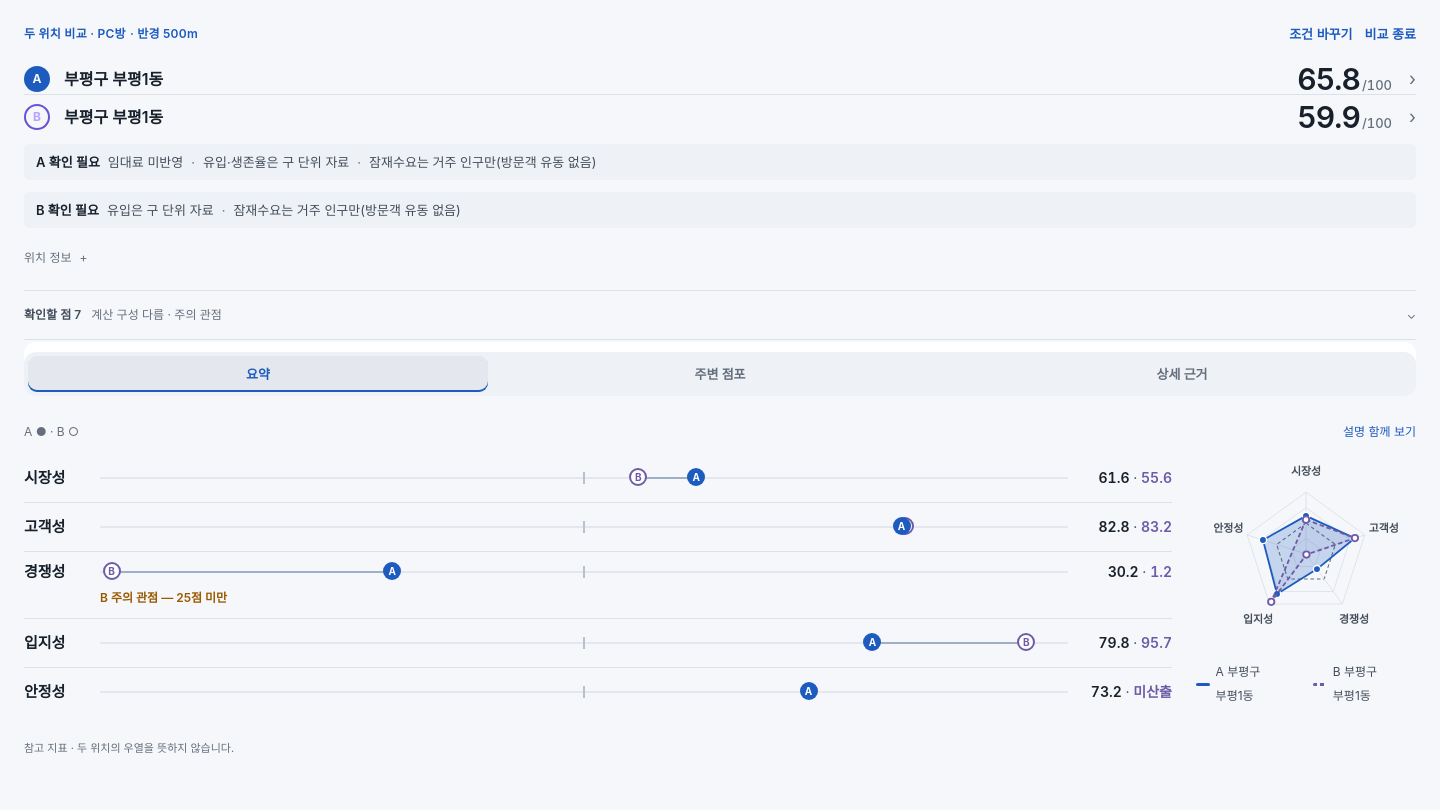
Test: 기본 결과는 간단히, 근거는 요청할 때 › 비교도 설명을 접고 계산 구성 차이는 접힌 주의 제목에 알린다
expect the heading "확인할 점 7 계산 구성 다름 · 주의 관점 ⌄" is shown: met, box 24,307 -> 1416,322
expect the number of elements with class "gaps" is 2: met, box 24,144 -> 1416,180; 24,192 -> 1416,228
Click the button "설명 함께 보기".
click(1380, 432)  # box 1343,410 -> 1416,454
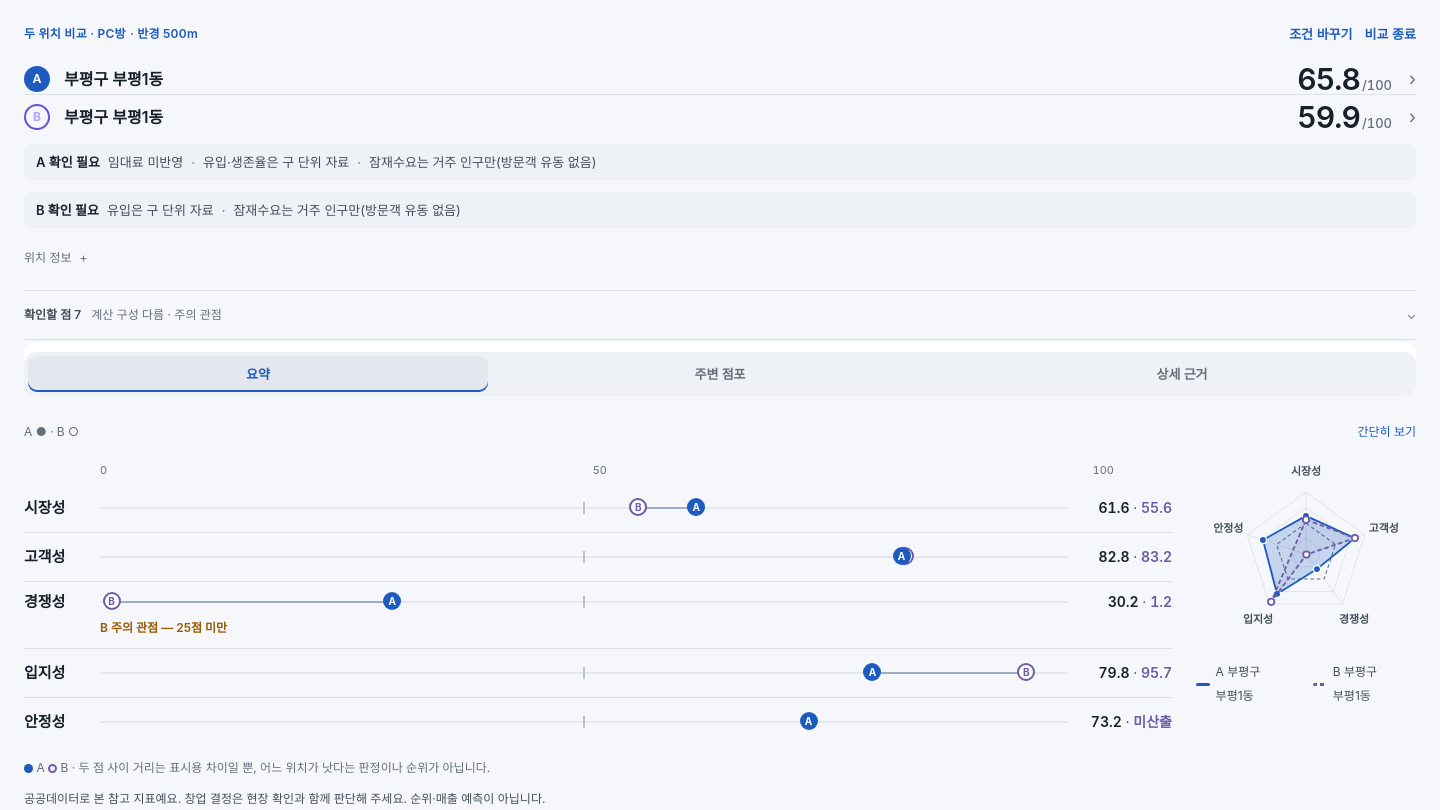
expect the element with class "result__secondary" is shown: met, box 24,760 -> 545,806
